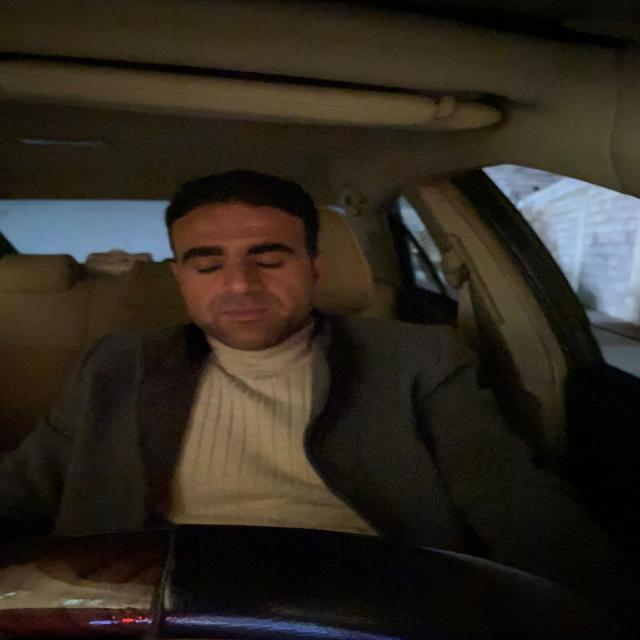drowsy: (163, 166, 329, 354)
